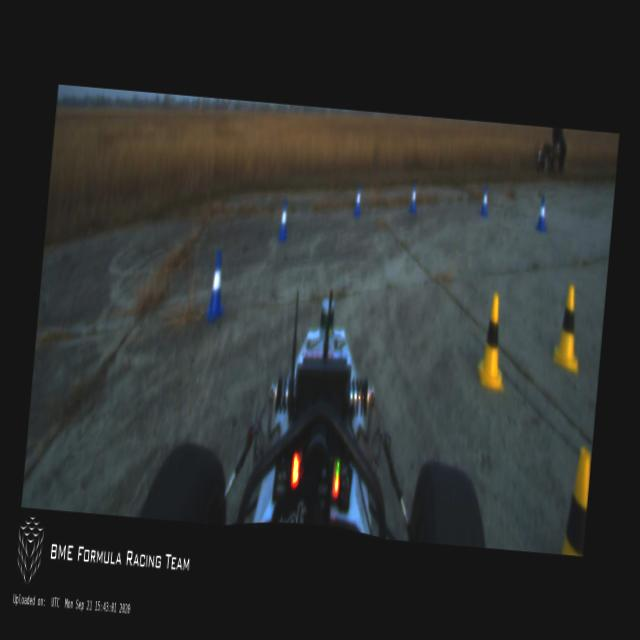blue_cone: (202, 250, 230, 323), (276, 199, 290, 243), (534, 196, 548, 230), (352, 183, 363, 218), (408, 182, 418, 216), (480, 184, 490, 216)
yellow_cone: (561, 443, 592, 555), (476, 292, 509, 390), (552, 283, 584, 369)
